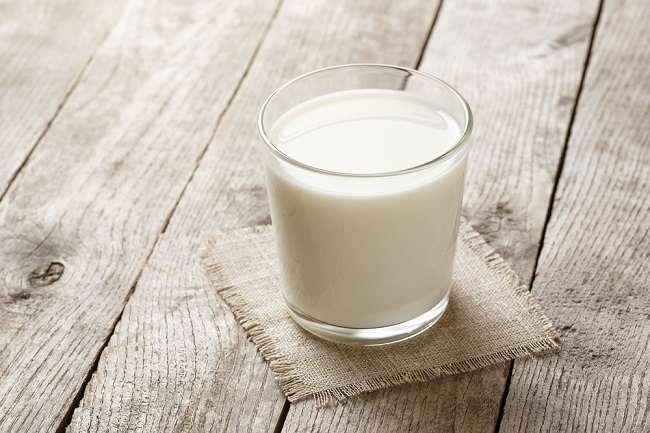produk_susu: (279, 87, 457, 317)
